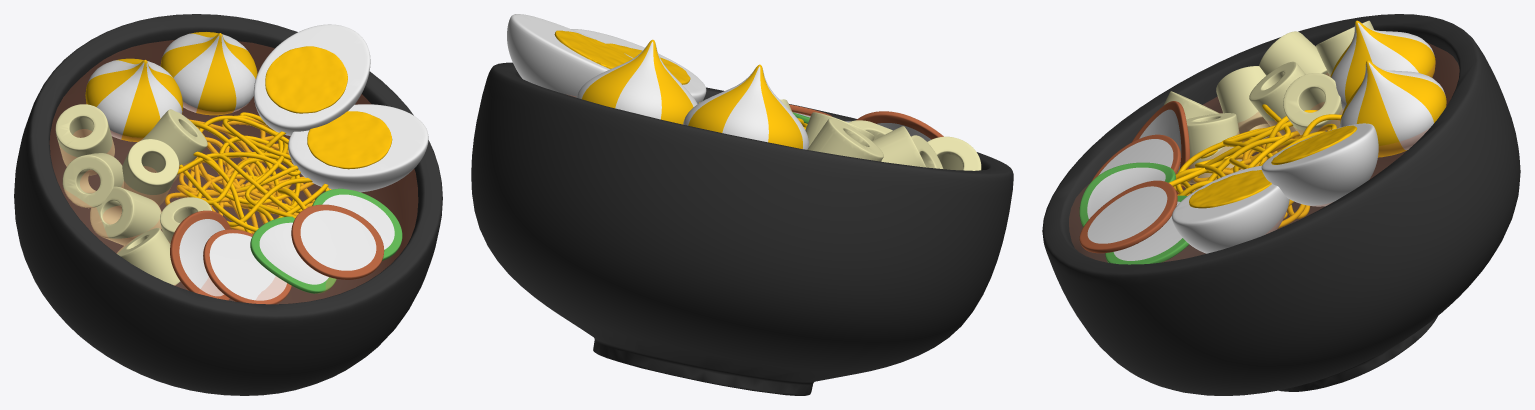
File: seblak.glb
3 renders of one model, left to right at view 1: azimuth 30°, elevation 25°; view 2: azimuth 150°, elevation 25°; view 3: azimuth 270°, elevation 25°, orthographic. The views are drawn at different scales.
Visible parts, largest first — view 1: Plane.013, Cylinder.003, Plane.014, BézierCircle.003, Cube.010, Cube.011, Sphere, Sphere.002, Plane.018, Sphere.003, Plane.016, Sphere.001 (+3 smaller); view 2: Plane.013, Cylinder.003, Cube.011, Cube.010, Sphere.002, Sphere.003, Plane.015, Sphere, Sphere.001; view 3: Plane.013, Cylinder.003, Cube.010, Sphere.002, Sphere, Plane.014, BézierCircle.003, Plane.018, Cube.011, Plane.017, Plane.019, Plane.016 (+3 smaller).
Boxes of the visible parts, bbox=[...] form: Plane.013: bbox=[14, 14, 442, 395]; Cylinder.003: bbox=[55, 104, 211, 285]; Plane.014: bbox=[50, 40, 417, 303]; BézierCircle.003: bbox=[165, 112, 331, 234]; Cube.010: bbox=[160, 32, 257, 115]; Cube.011: bbox=[85, 58, 182, 142]; Sphere: bbox=[288, 104, 428, 192]; Sphere.002: bbox=[253, 24, 370, 135]; Plane.018: bbox=[291, 204, 384, 279]; Sphere.003: bbox=[265, 46, 347, 113]; Plane.016: bbox=[203, 229, 291, 304]; Sphere.001: bbox=[307, 111, 392, 169]; Plane.013: bbox=[471, 62, 1013, 395]; Cylinder.003: bbox=[780, 99, 981, 170]; Cube.011: bbox=[683, 64, 808, 149]; Cube.010: bbox=[576, 39, 697, 124]; Sphere.002: bbox=[507, 14, 633, 97]; Sphere.003: bbox=[554, 30, 632, 68]; Plane.015: bbox=[856, 111, 943, 141]; Sphere: bbox=[571, 29, 706, 103]; Sphere.001: bbox=[606, 43, 690, 84]; Plane.013: bbox=[1042, 14, 1520, 395]; Cylinder.003: bbox=[1164, 20, 1373, 183]; Cube.010: bbox=[1339, 60, 1446, 157]; Sphere.002: bbox=[1261, 123, 1378, 206]; Sphere: bbox=[1172, 165, 1289, 253]; Plane.014: bbox=[1069, 43, 1459, 262]; BézierCircle.003: bbox=[1168, 104, 1341, 228]; Plane.018: bbox=[1079, 180, 1177, 253]; Cube.011: bbox=[1330, 20, 1435, 110]; Plane.017: bbox=[1079, 162, 1175, 227]; Plane.019: bbox=[1105, 195, 1189, 264]; Plane.016: bbox=[1091, 134, 1180, 181].
Size of the model in its own units: 0.2 by 0.1505 by 0.1981.
